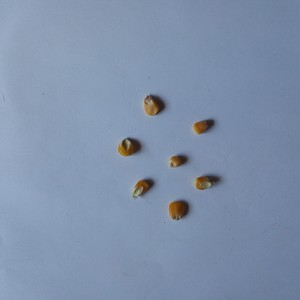maiz: (141, 92, 164, 117), (166, 198, 189, 222), (115, 137, 139, 159), (192, 117, 213, 136), (131, 178, 150, 199), (194, 174, 216, 192), (166, 153, 186, 169)
